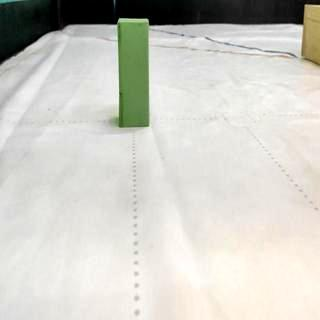greenbox: (116, 15, 150, 130)
